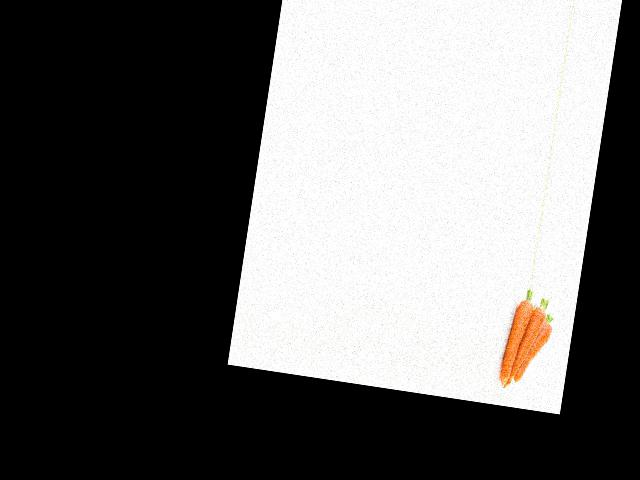carrot: (499, 292, 532, 386)
